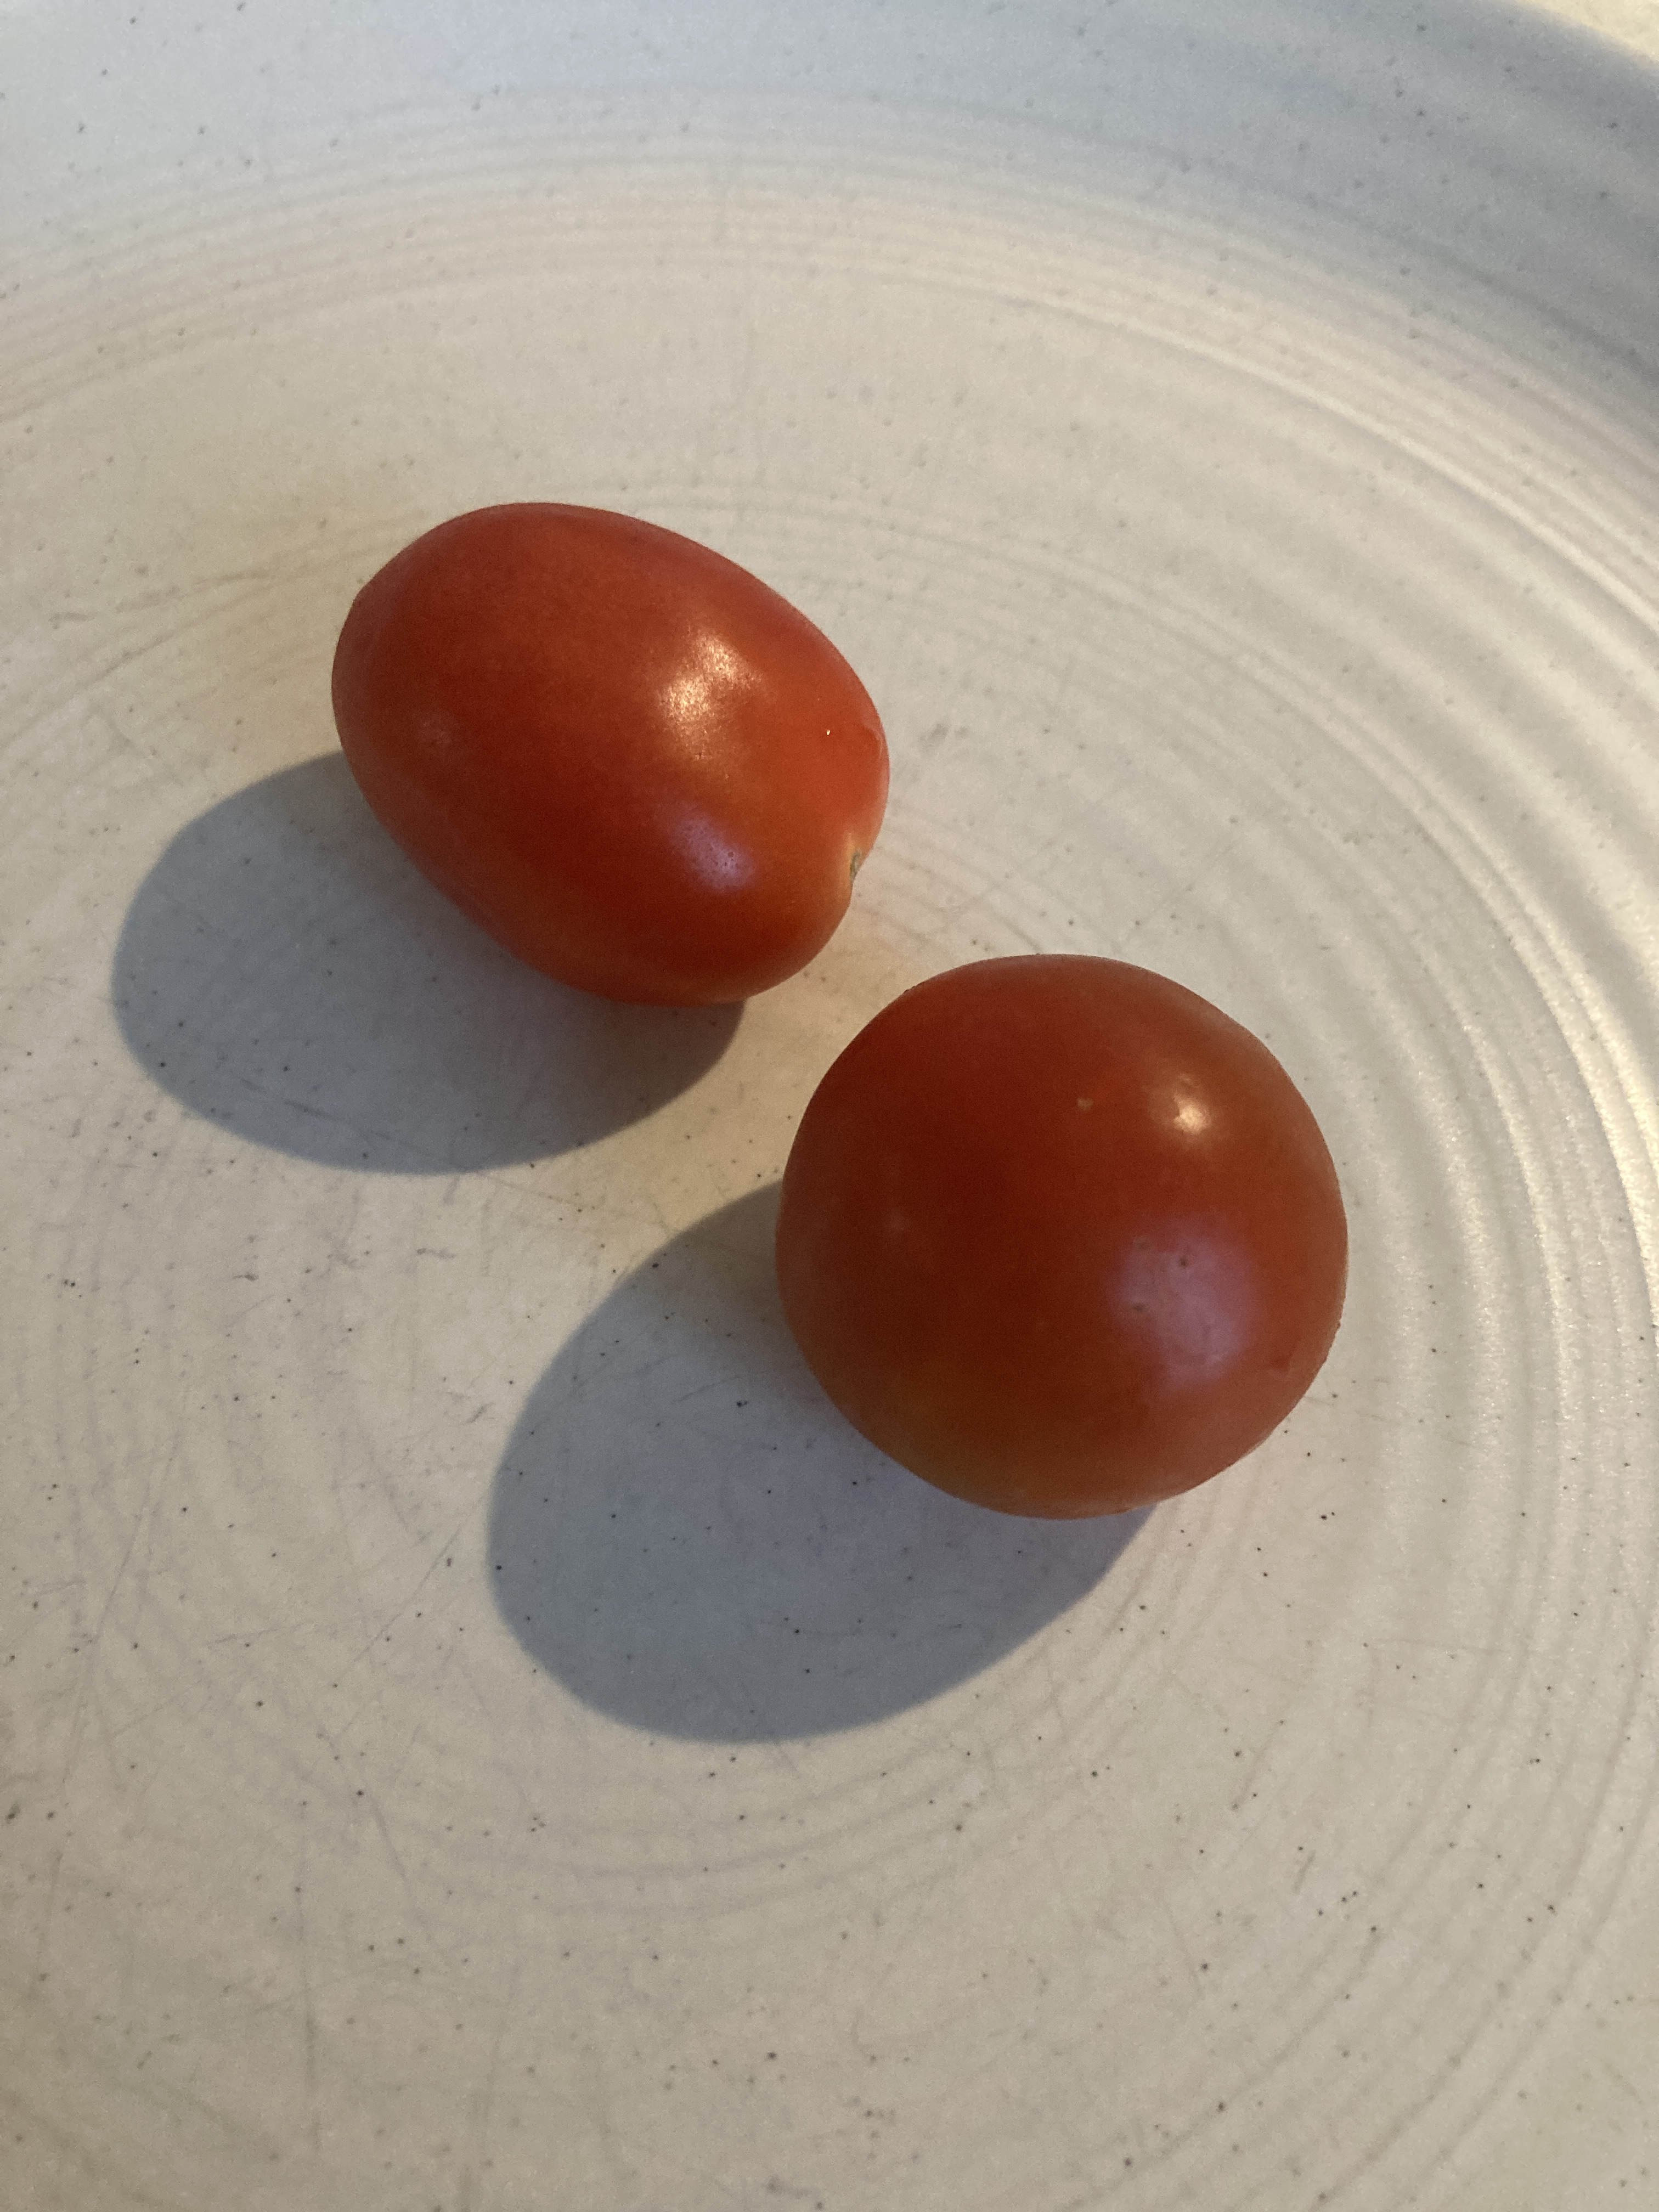healthy-tomato: (767, 948, 1356, 1519), (322, 489, 892, 1010)
